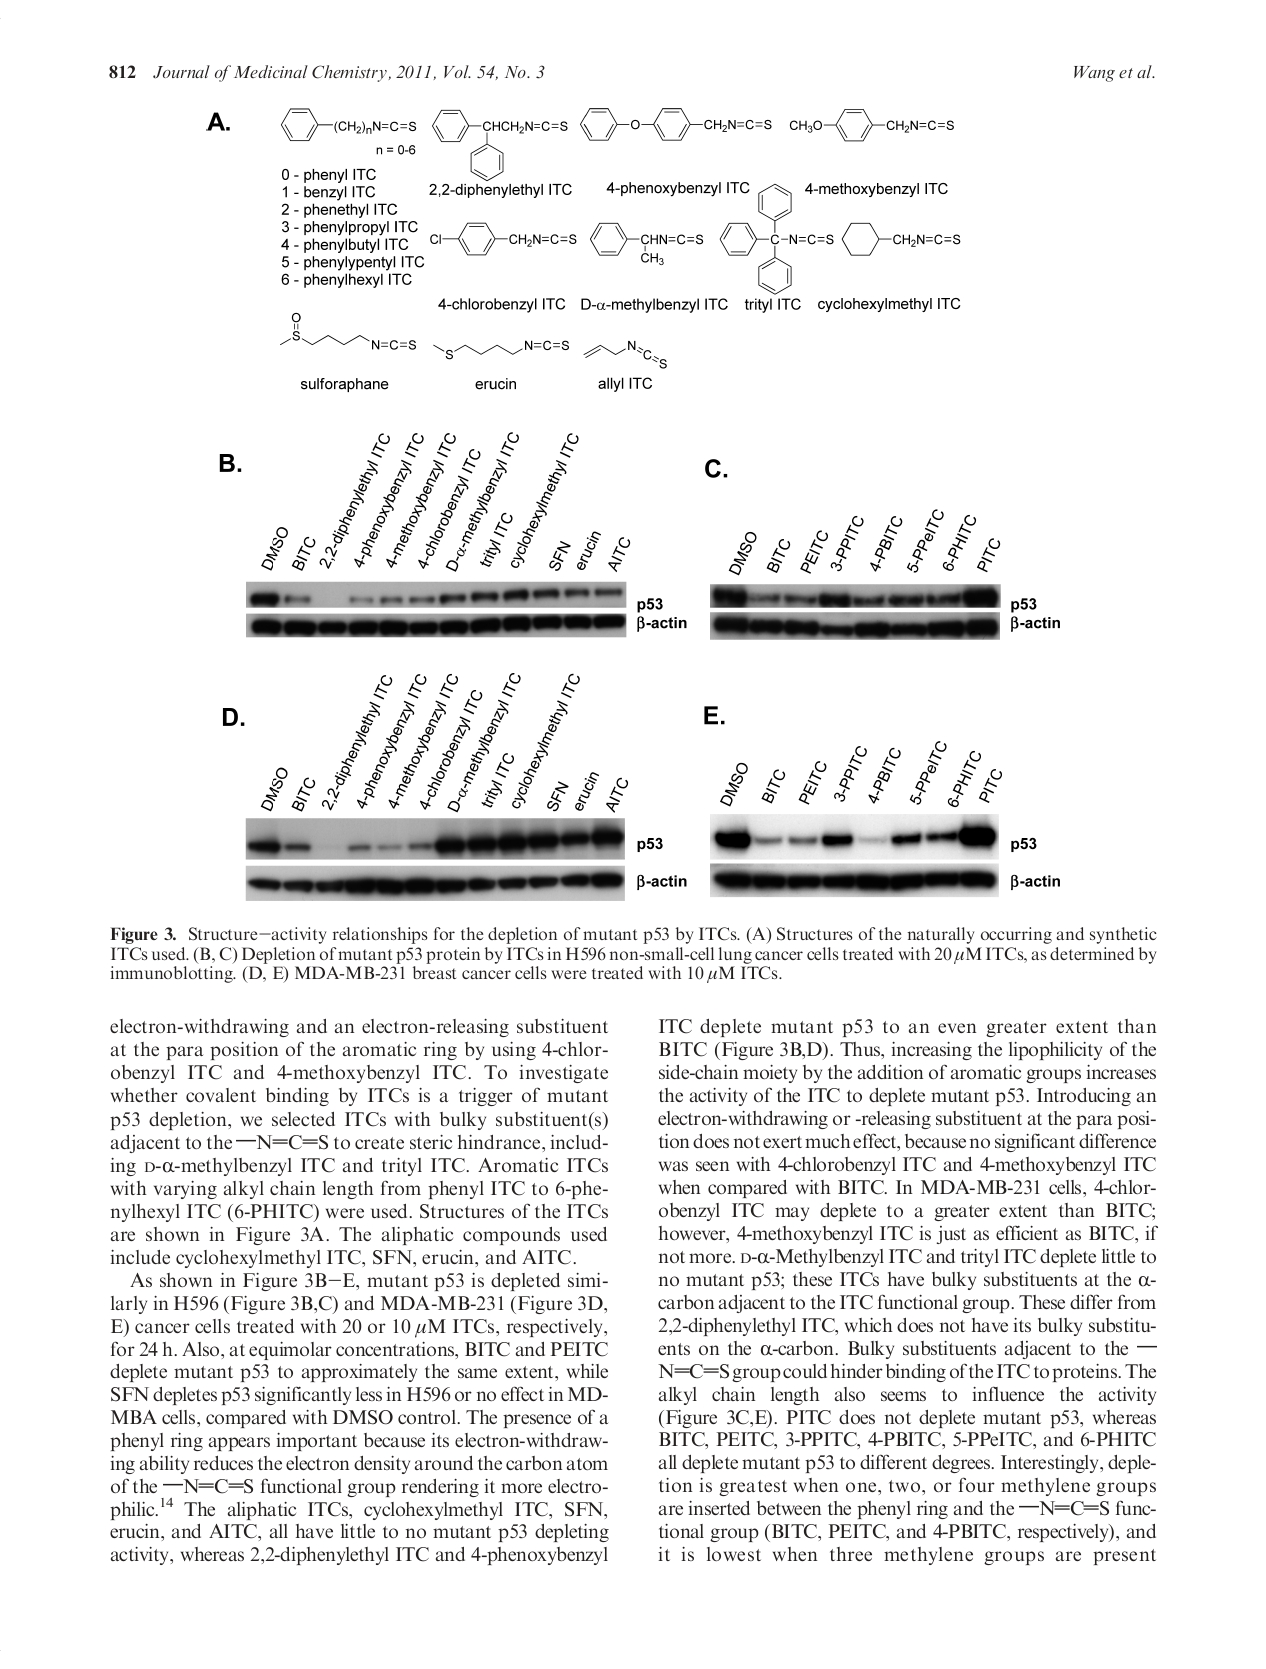exist_molecular: (715, 181, 836, 297), (430, 101, 569, 182), (577, 100, 775, 149), (787, 104, 963, 148), (278, 96, 422, 144), (589, 211, 709, 267), (427, 219, 585, 261), (275, 309, 422, 352), (839, 214, 964, 261), (428, 335, 570, 364), (582, 338, 669, 371)
